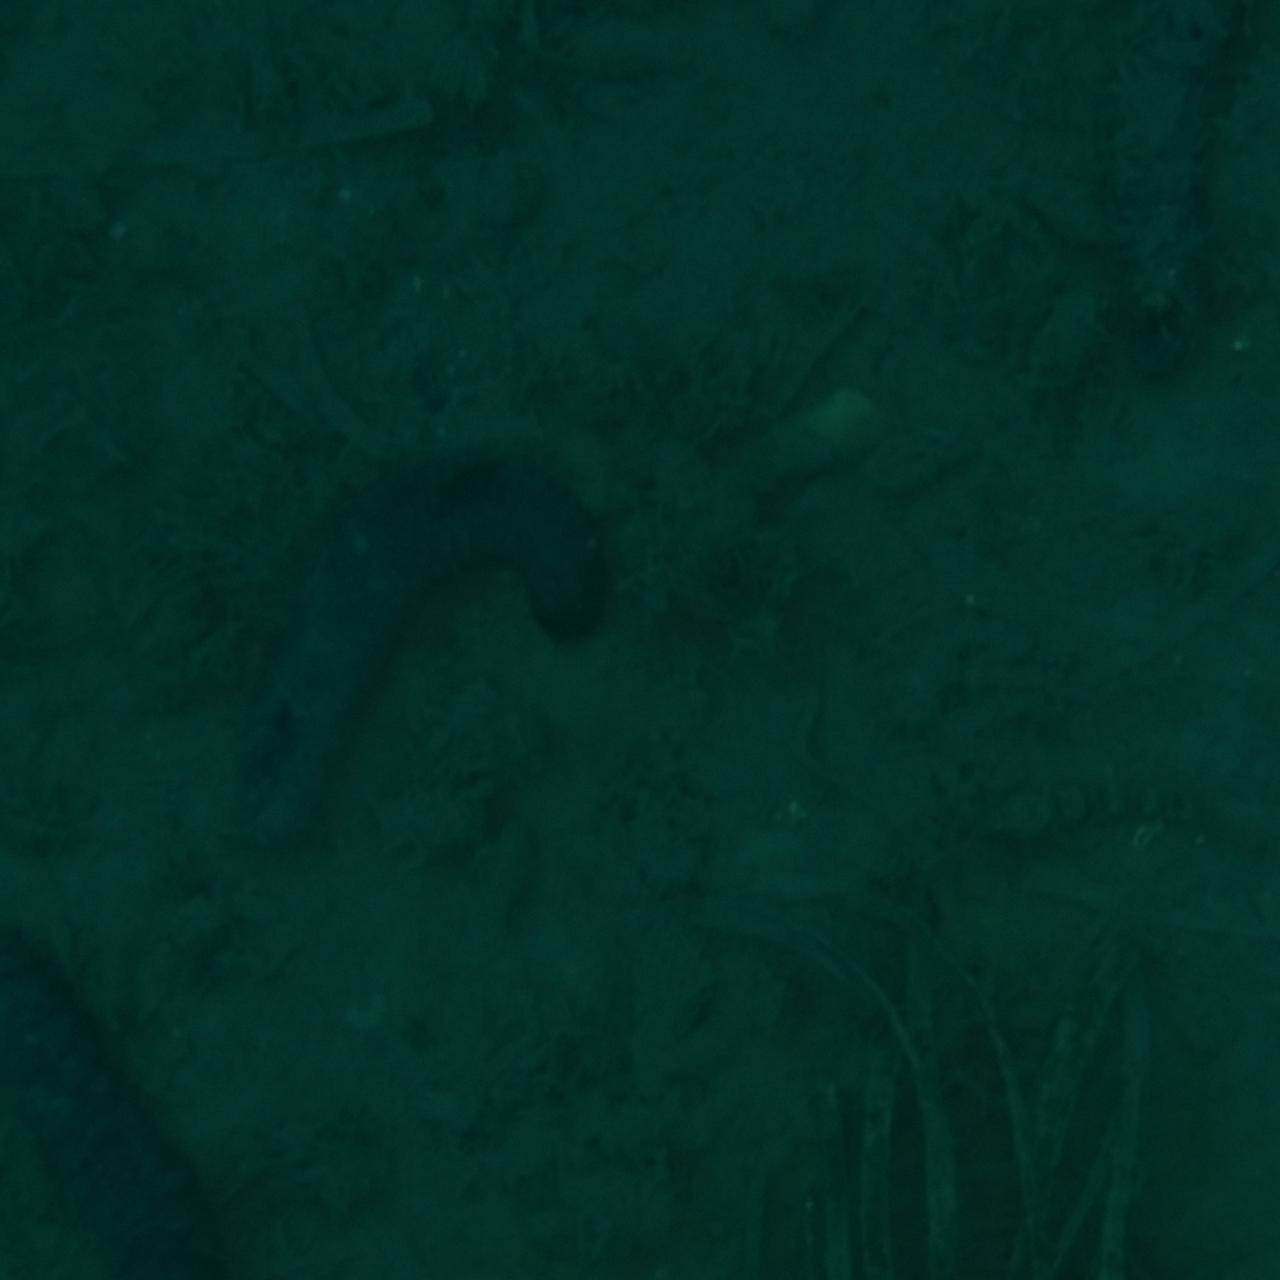Holothuria tubulosa: (251, 429, 638, 863), (0, 911, 257, 1280), (1077, 0, 1280, 368)
